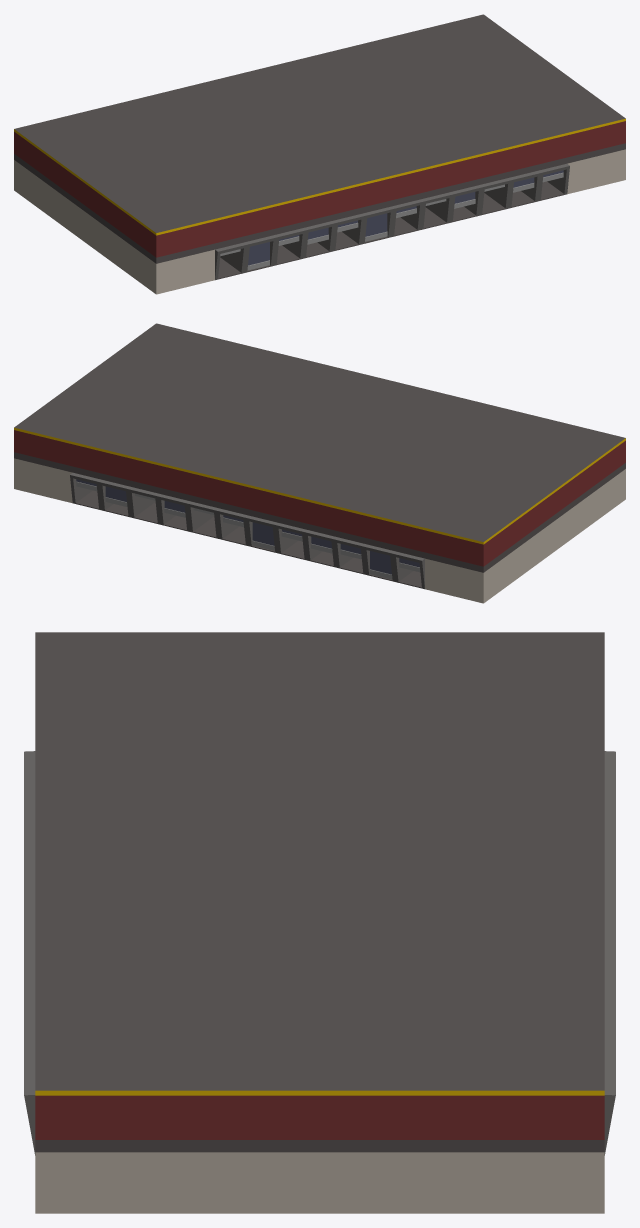
File: Depot_Garage_S2.fbx
The picture shows the model from 3 angles, top to bottom: view 1: azimuth 30°, elevation 25°; view 2: azimuth 150°, elevation 25°; view 3: azimuth 270°, elevation 25°; orthographic projection. The views are drawn at different scales.
Parts seen in each view (by area): view 1: Depot_Garage; view 2: Depot_Garage; view 3: Depot_Garage.
Boxes of the visible parts, left/top/right/bottom form: Depot_Garage: left=14, top=14, right=625, bottom=294; Depot_Garage: left=14, top=323, right=625, bottom=603; Depot_Garage: left=24, top=632, right=615, bottom=1213.
Bounding box in the file's own units: 8000 × 1000 × 4366.
